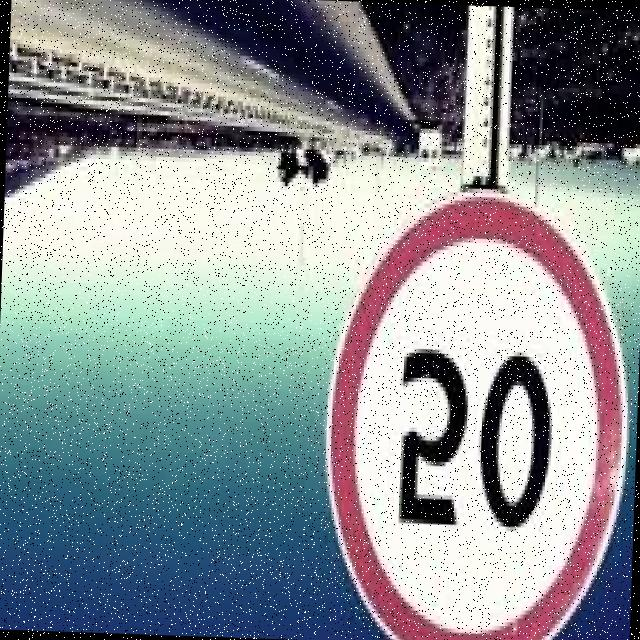speed_limit_50: (313, 183, 639, 640)
